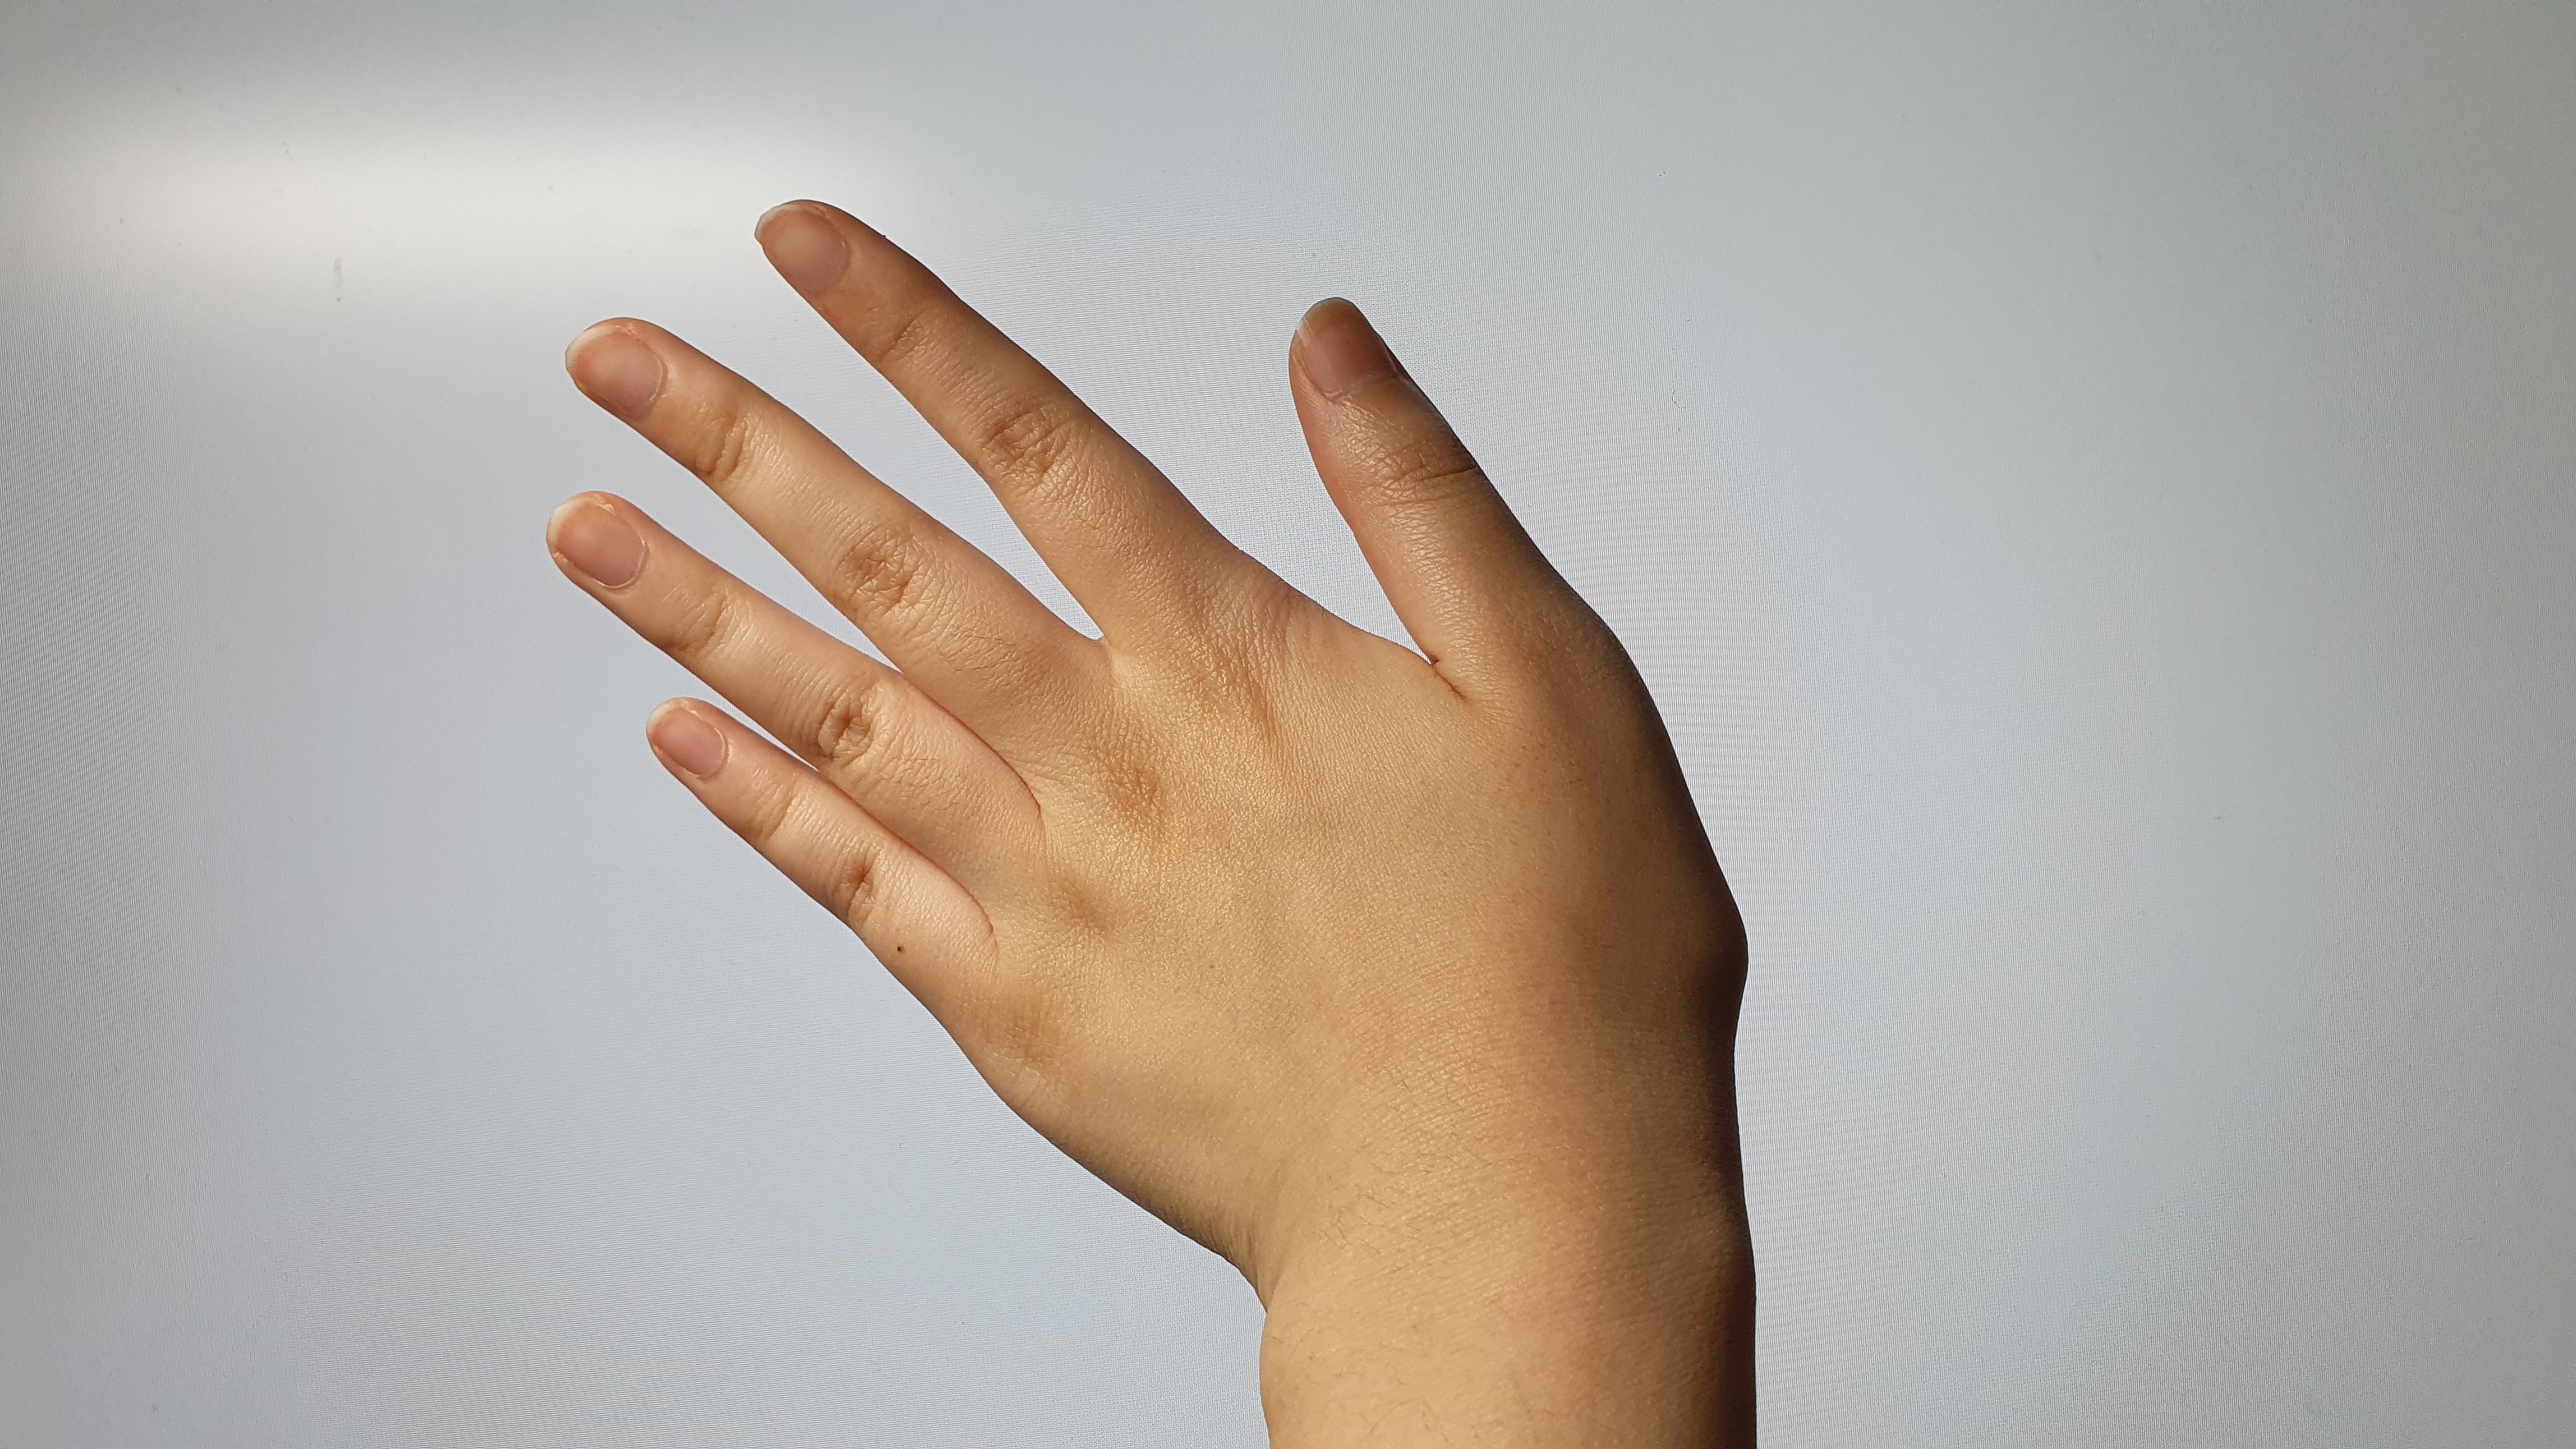backhand: (989, 646, 1730, 1267)
hand: (545, 193, 1794, 1283)
index finger: (745, 200, 1249, 669)
middle finger: (563, 320, 1092, 757)
pinky: (651, 701, 1003, 1067)
ring finger: (541, 488, 1044, 893)
thumb: (1286, 303, 1683, 741)
